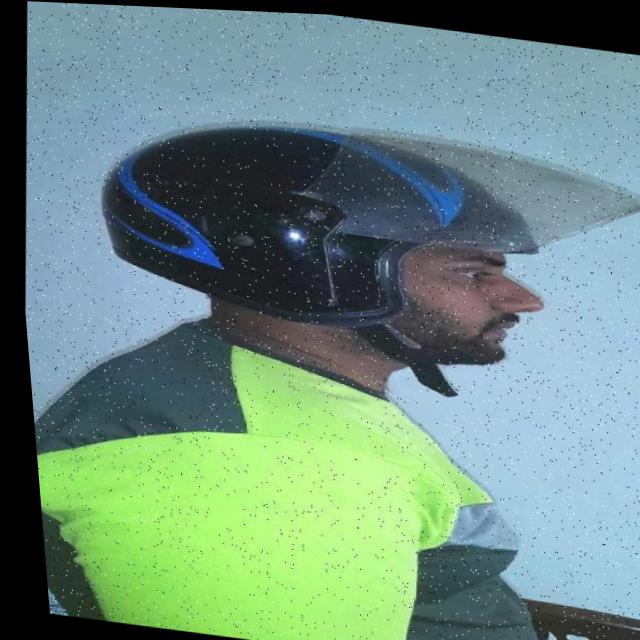helmet: (80, 93, 640, 420)
